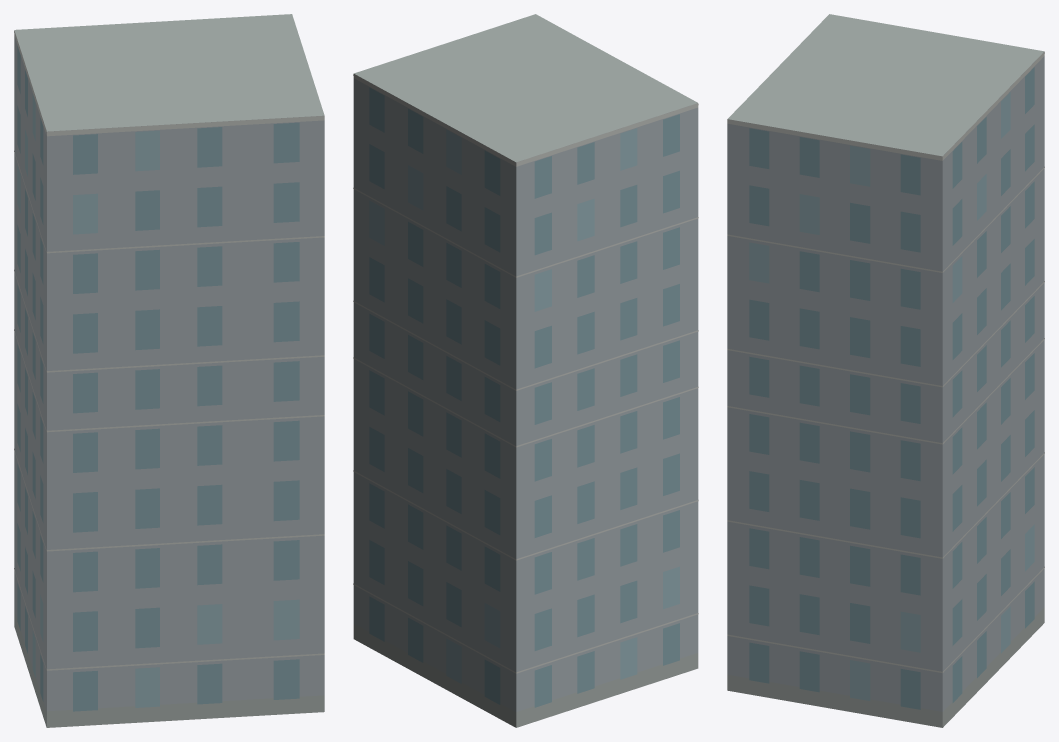
Rendered from residential-5a65ceb8-b3ad-475a-8d10-0b6b1d92f082.glb.
The picture shows the model from 3 angles, left to right: view 1: azimuth 30°, elevation 25°; view 2: azimuth 150°, elevation 25°; view 3: azimuth 270°, elevation 25°; orthographic projection. The views are drawn at different scales.
Parts seen in each view (by area): view 1: residential-5a65ceb8-b3ad-475a-8d10-0b6b1d92f082.tmp; view 2: residential-5a65ceb8-b3ad-475a-8d10-0b6b1d92f082.tmp; view 3: residential-5a65ceb8-b3ad-475a-8d10-0b6b1d92f082.tmp.
Part boxes in pixels (x1,y1,x2,y2): residential-5a65ceb8-b3ad-475a-8d10-0b6b1d92f082.tmp: (14, 14, 324, 727); residential-5a65ceb8-b3ad-475a-8d10-0b6b1d92f082.tmp: (353, 14, 698, 727); residential-5a65ceb8-b3ad-475a-8d10-0b6b1d92f082.tmp: (727, 14, 1044, 727).
Bounding box in the file's own units: 16.32 × 30.5 × 15.37.
